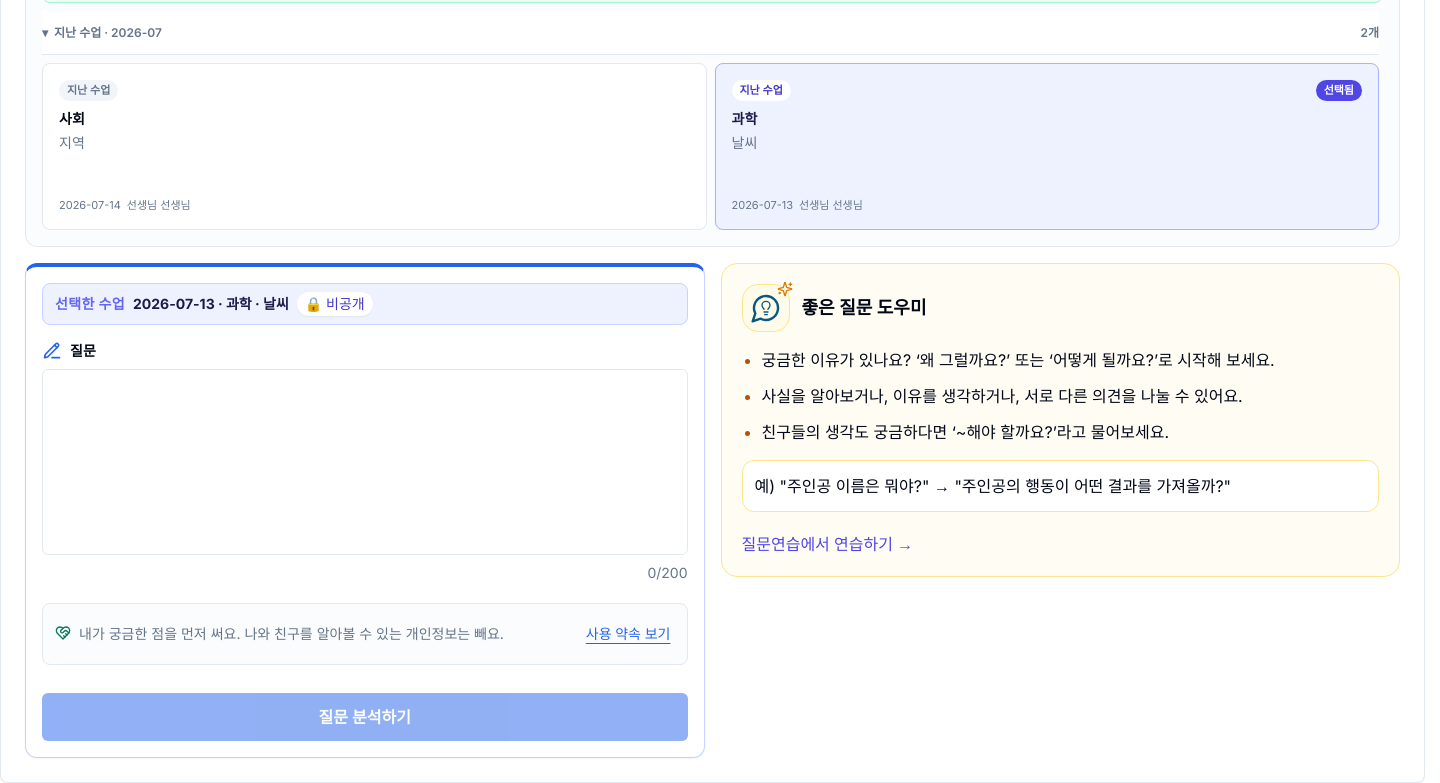
it: 학생 질문 분석 결과 › 키 누락처럼 기다려도 해결되지 않는 기본 분석은 자동 재시도하지 않는다
(page scrolled)
Type "광합성에 필요한 것은 무엇인가요?" into the text box labelled "질문" at (365, 462), box x1=42 y1=369 x2=688 y2=555
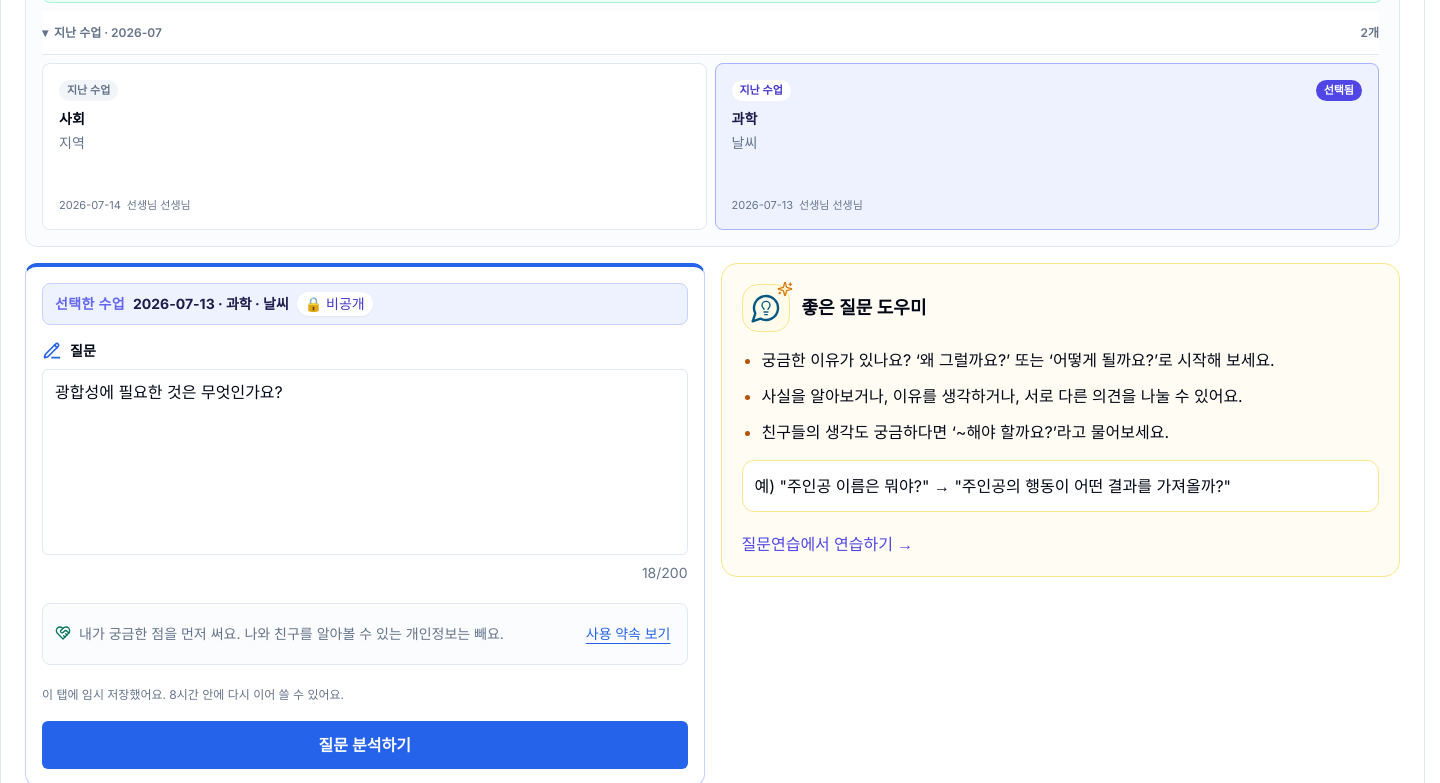
Click the button "질문 분석하기" at (365, 745), box x1=42 y1=721 x2=688 y2=769
(page scrolled)
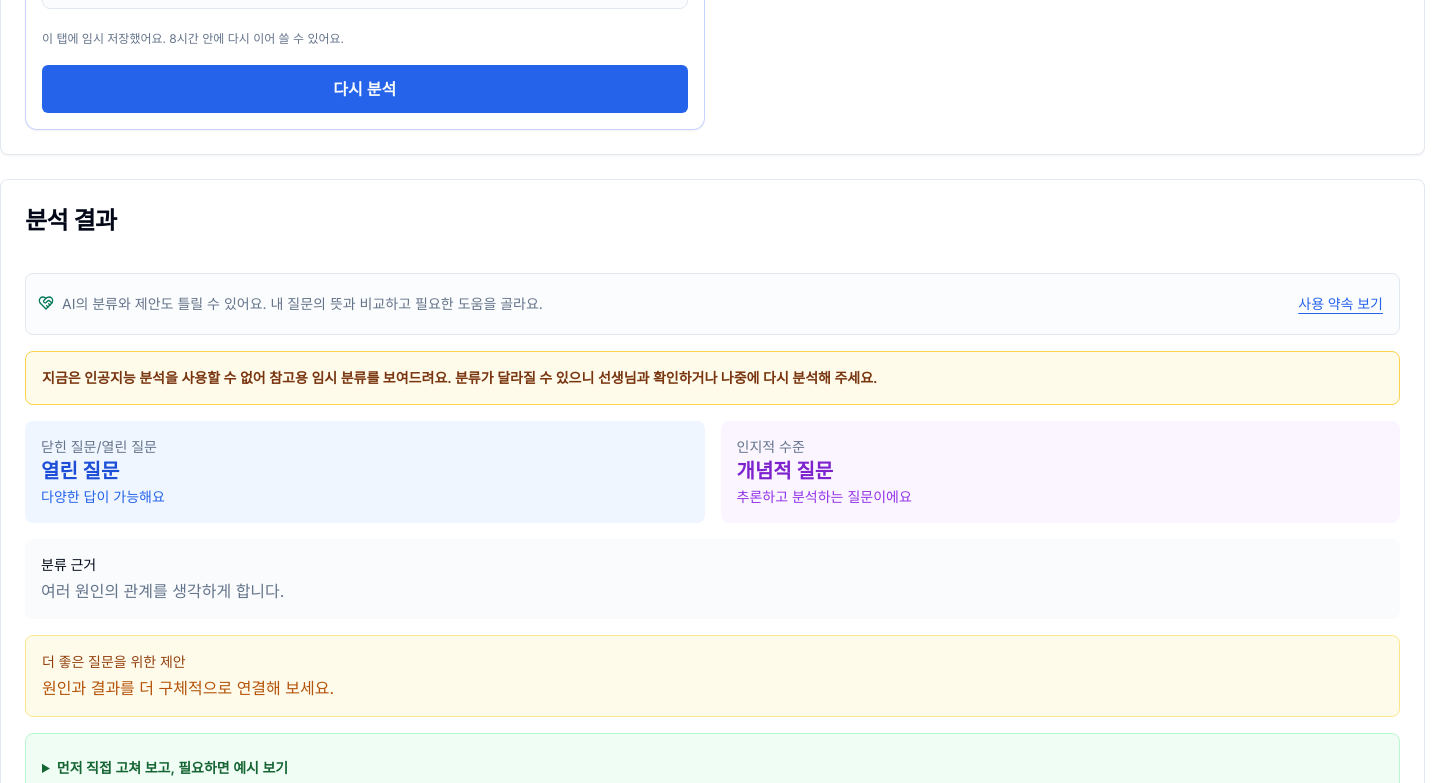
Result: the text "지금은 인공지능 분석을 사용할 수 없어 참고용 임시 분류를 보여드려요. 분류가 달라질 수 있으니 선생님과 확인하거나 나중에 다시 분석해 주세요." is shown at x1=42 y1=369 x2=878 y2=386
